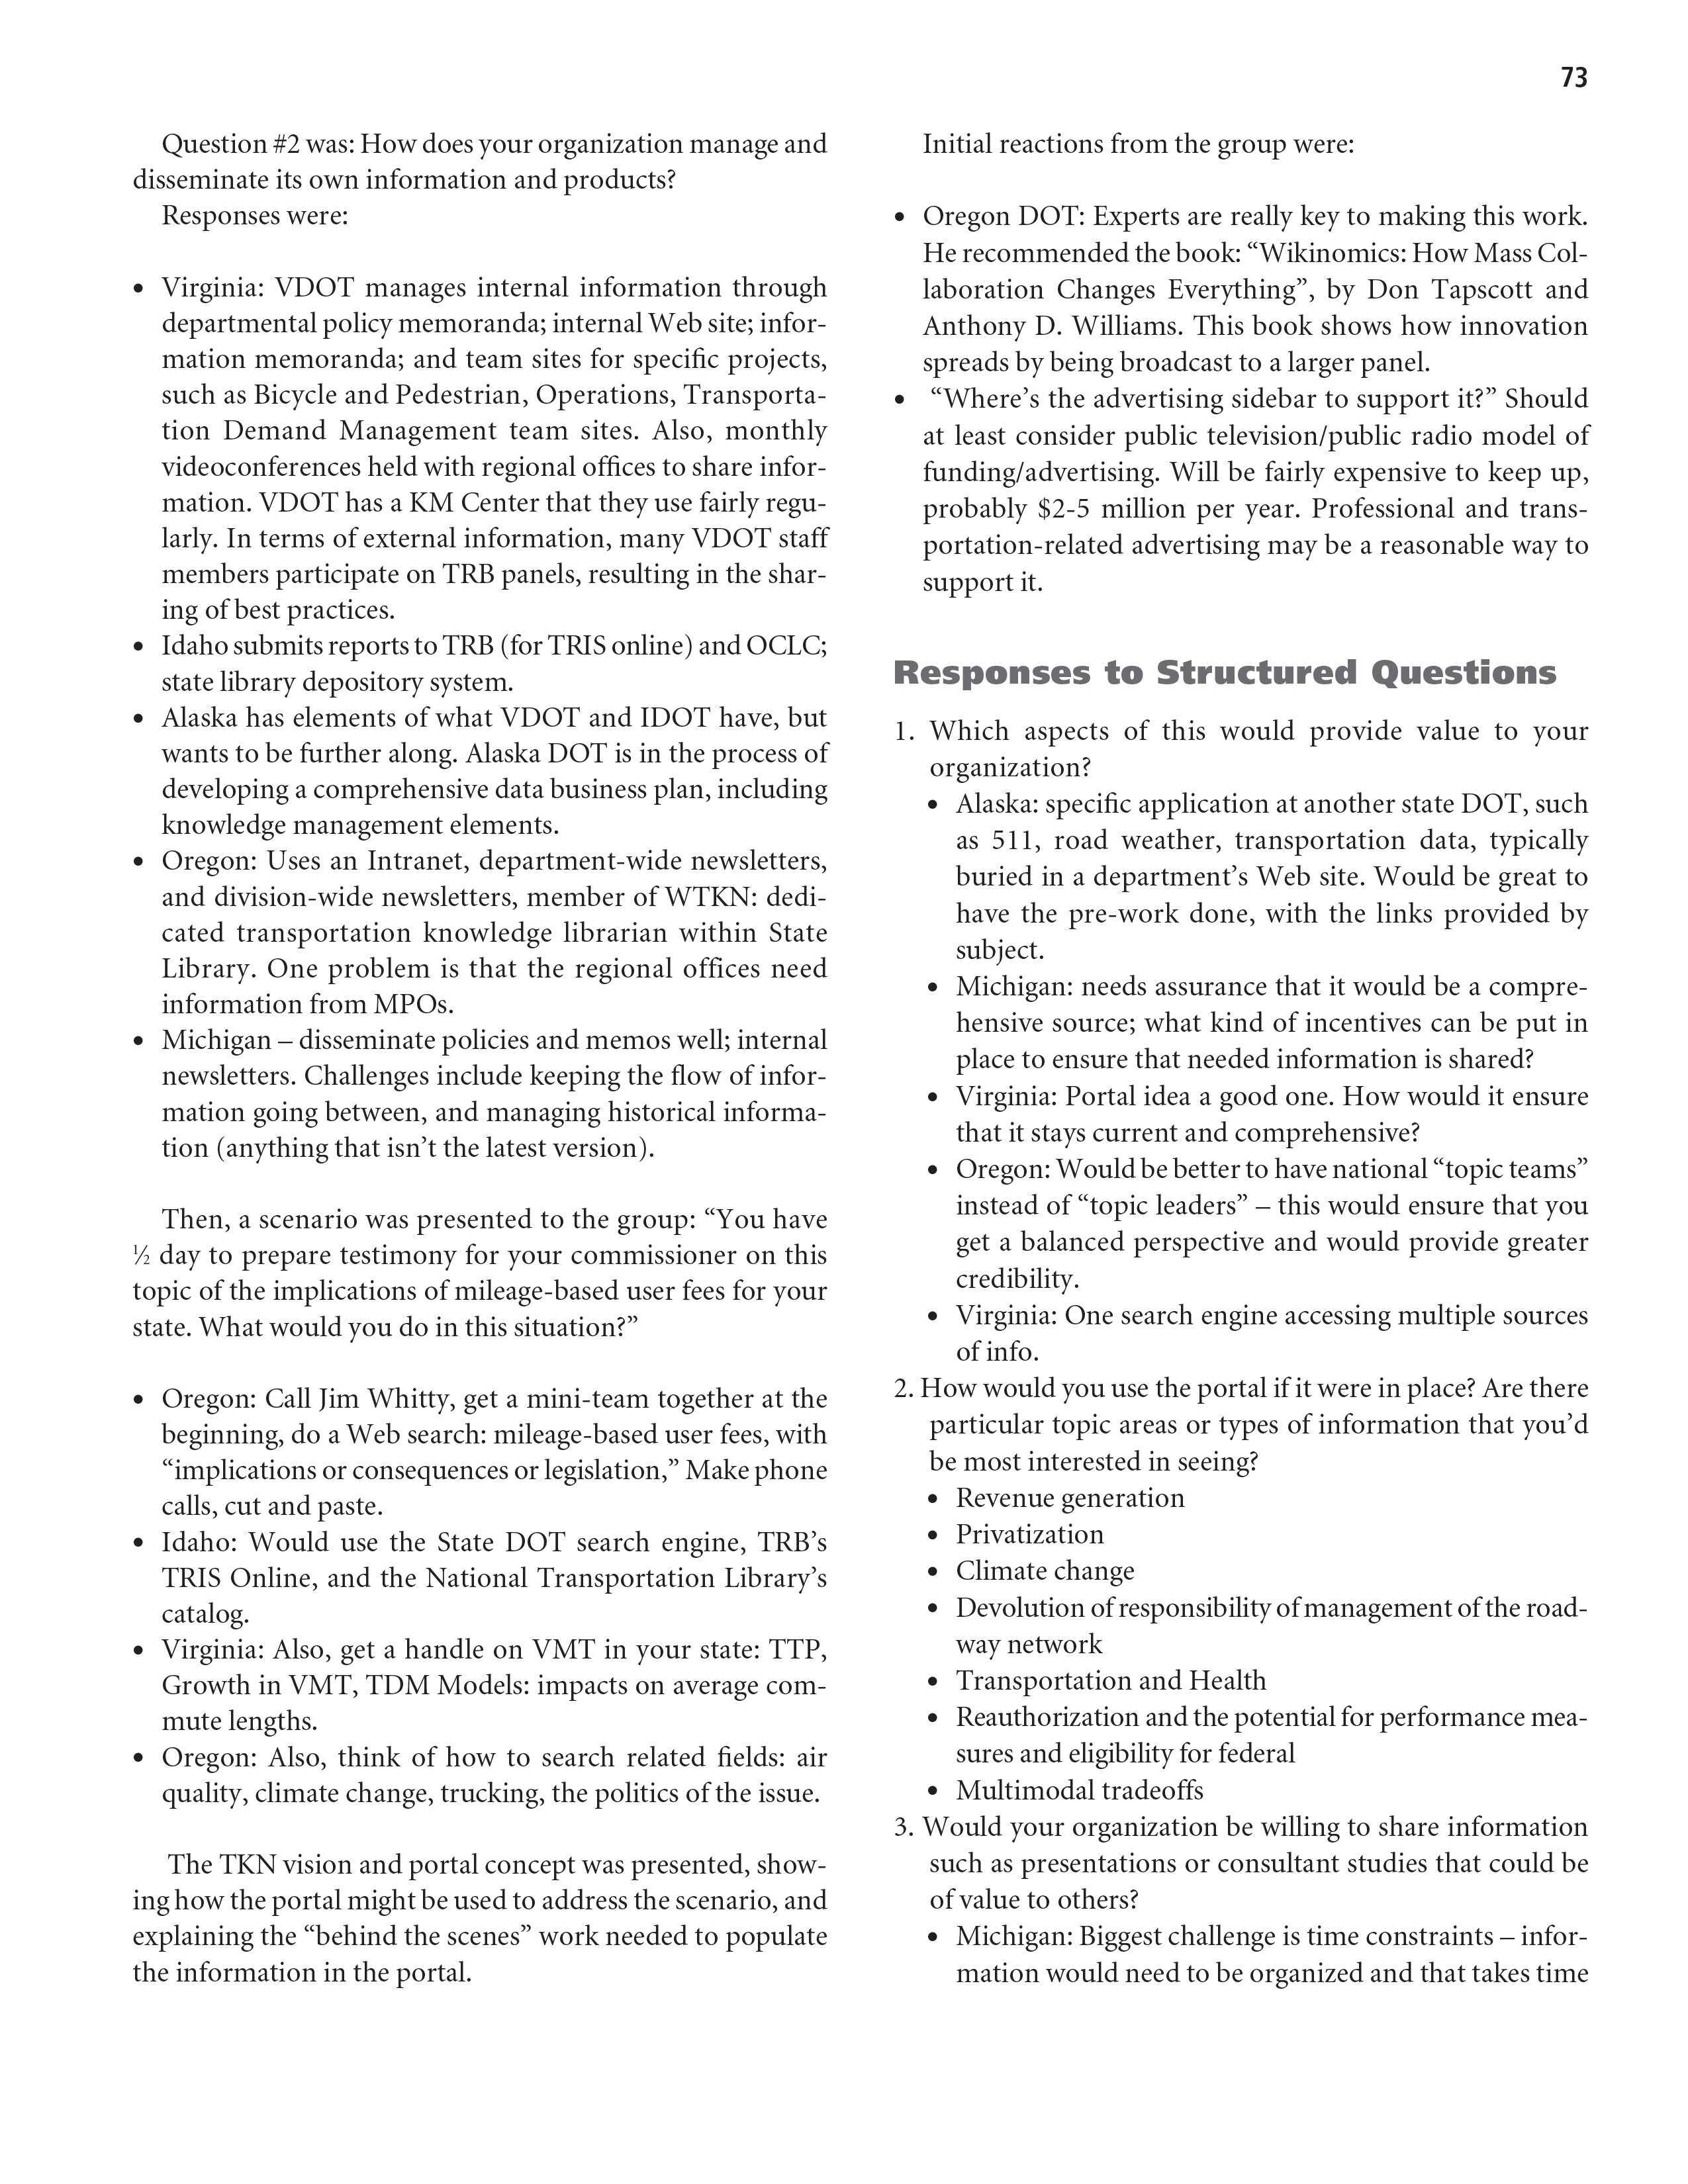list: (865, 711, 1626, 2005), (112, 261, 865, 1189), (122, 1358, 846, 1840), (888, 188, 1610, 604)
section: (887, 658, 1560, 700)
text: (137, 1213, 837, 1347), (110, 119, 837, 230)
